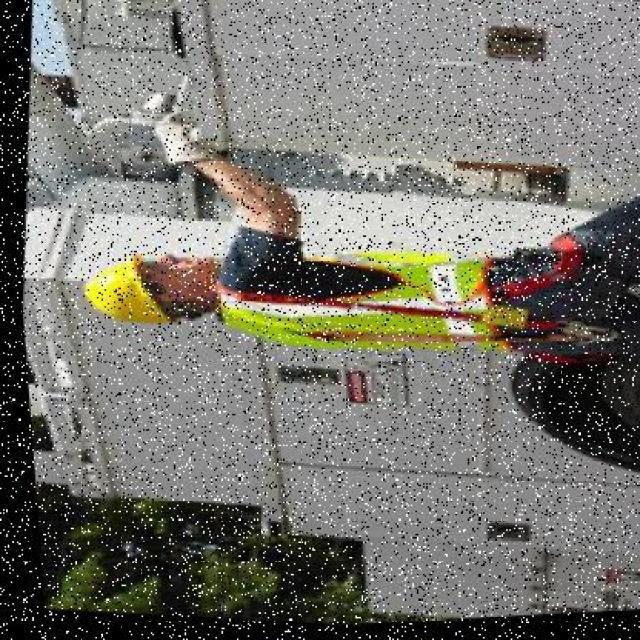helmet: (73, 248, 179, 332)
vest: (199, 217, 515, 367)
